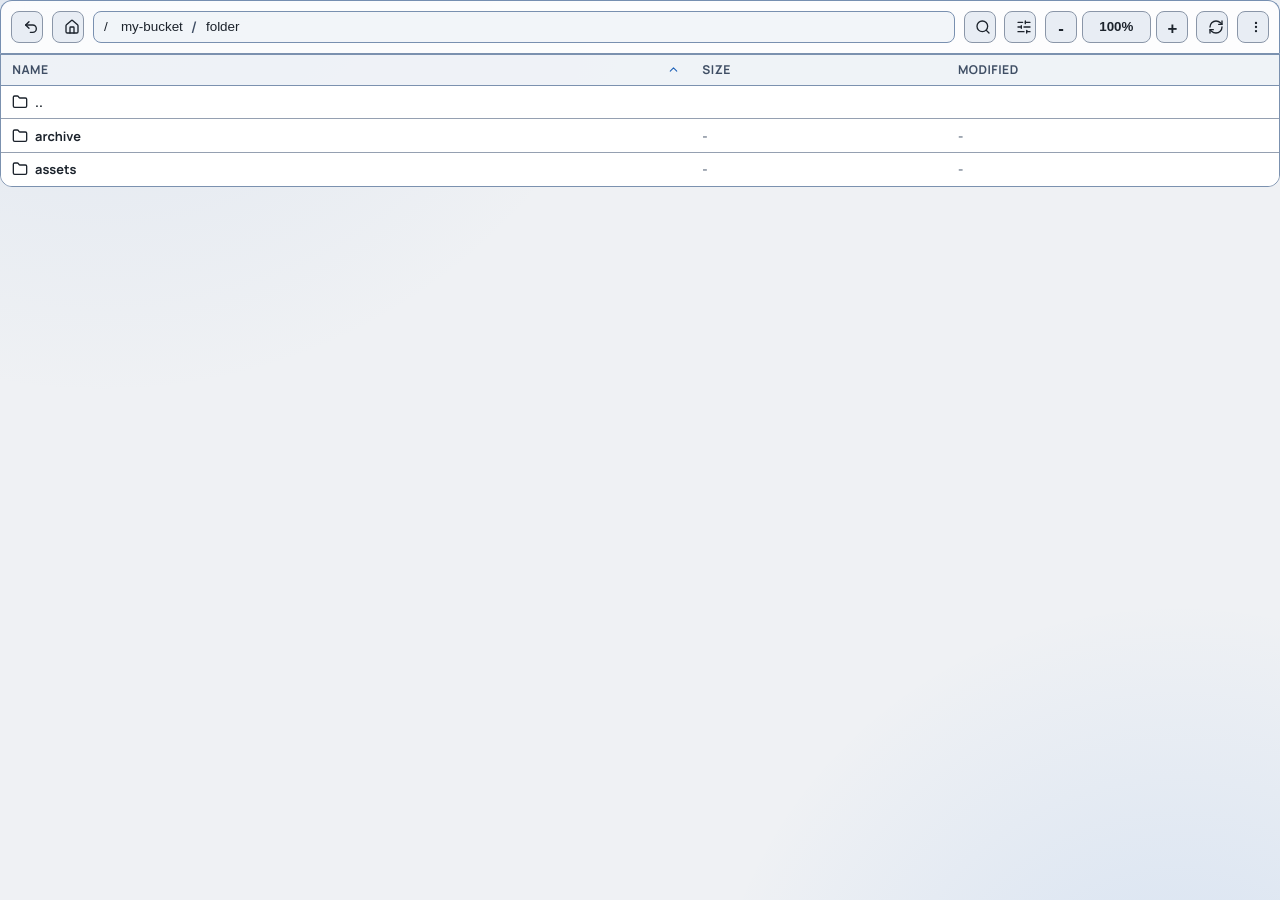
Test case: BrowserPage breadcrumb editing › shows current directory options when typing only a folder fragment
The image size is (1280, 900).
Click the element with test id "breadcrumb-trail". click: (524, 27)
box: [92, 11, 955, 43]
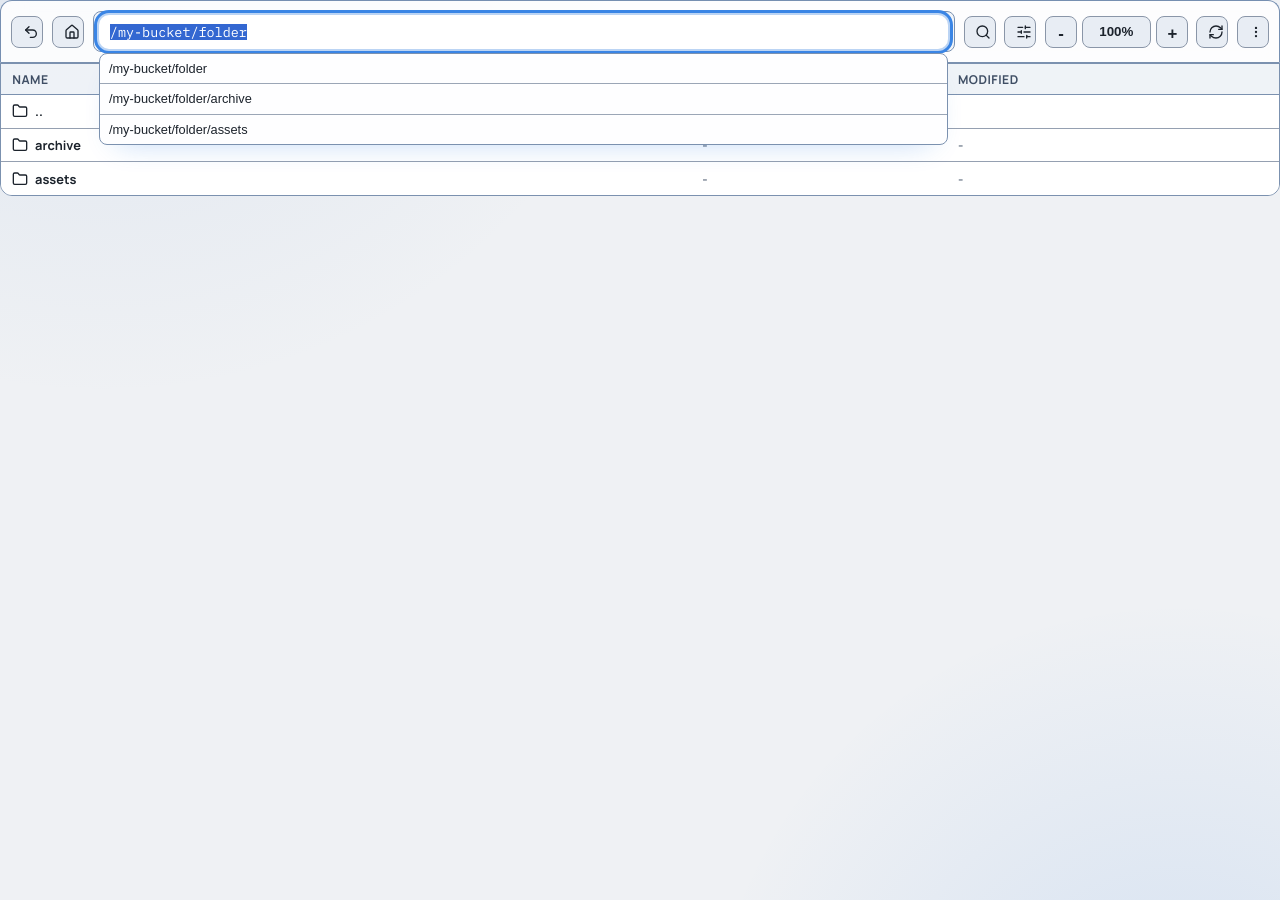
Replace the text in the field named "Breadcrumb path" with "ass". click: (524, 32)
box: [99, 15, 948, 48]
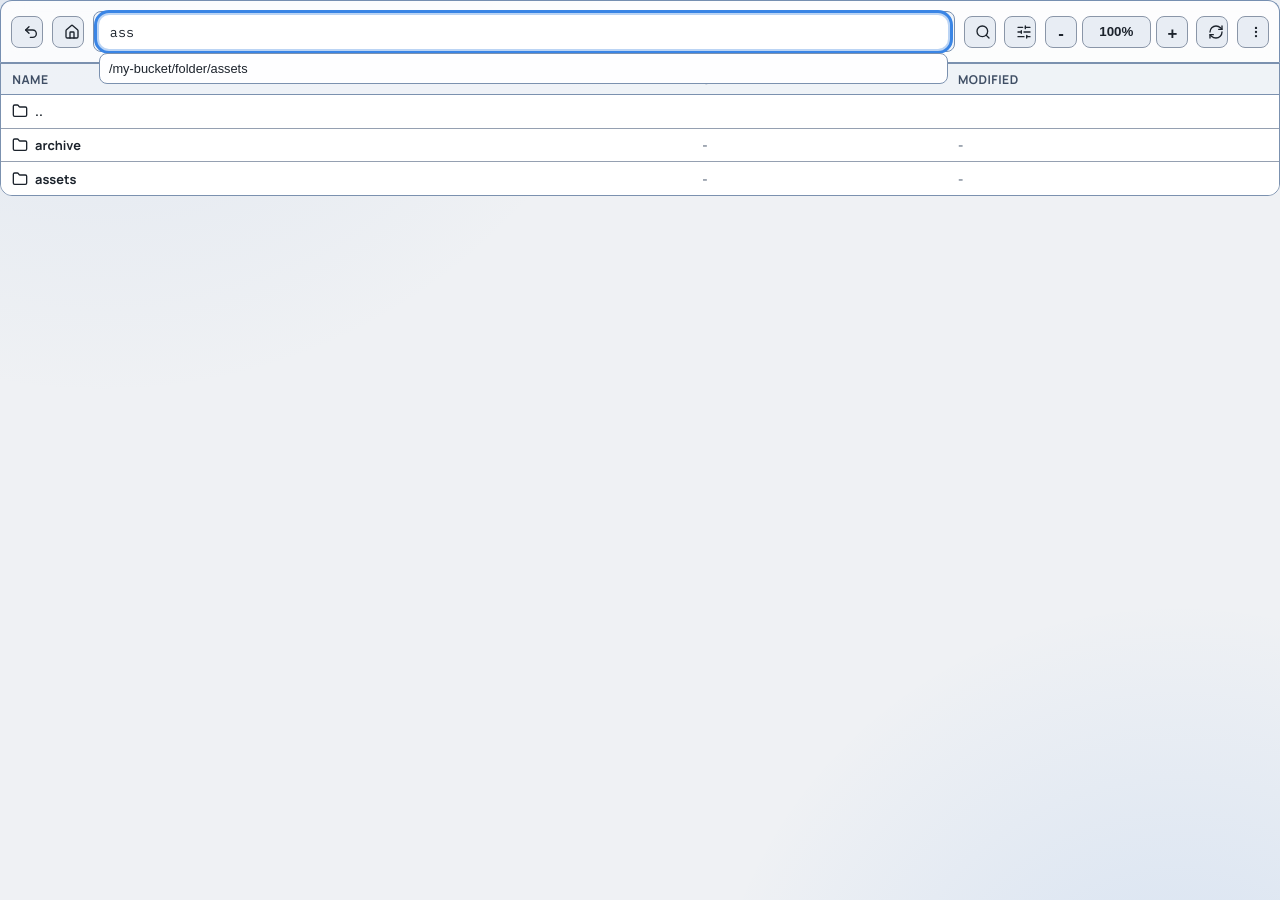
Expected: the list with test id "breadcrumb-hints" reads "/my-bucket/folder/assets", [100, 54, 947, 83]
Expected: the list with test id "breadcrumb-hints" no longer shows "/my-bucket/folder/archive", [99, 53, 948, 84]
